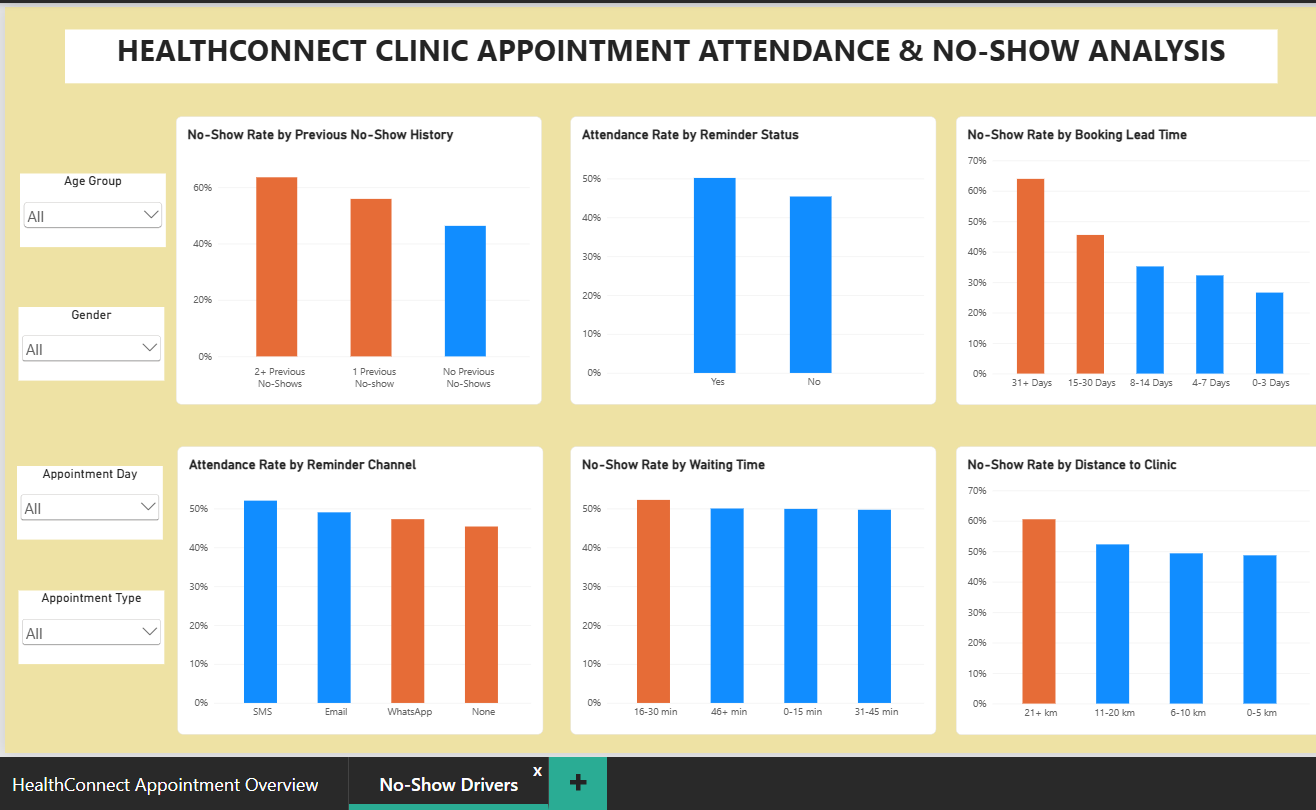

What the dashboard file says about the page in this screenshot:
{"tool":"powerbi","page":{"name":"No-Show Drivers","canvas":[1920,1080],"ordinal":1},"visuals":[{"type":"clusteredColumnChart","title":"No-Show Rate by Previous No-Show History","fields":{"Category":["HealthConnect_Appointment_Data_Raw.Previous No-Show Group"],"Y":["HealthConnect_Appointment_Data_Raw.No-Show Rate"]},"box":[248.7,158.7,530,417],"z":0},{"type":"clusteredColumnChart","title":"No-Show Rate by Booking Lead Time","fields":{"Category":["HealthConnect_Appointment_Data_Raw.Booking Lead Group"],"Y":["HealthConnect_Appointment_Data_Raw.No-Show Rate"]},"box":[1378.4,158.7,530,417.9],"z":1000},{"type":"clusteredColumnChart","title":"Attendance Rate by Reminder Status","fields":{"Category":["HealthConnect_Appointment_Data_Raw.reminder_sent"],"Y":["HealthConnect_Appointment_Data_Raw.Attendance Rate"]},"box":[819.5,158.7,530,417],"z":2000},{"type":"clusteredColumnChart","title":"Attendance Rate by Reminder Channel","fields":{"Category":["HealthConnect_Appointment_Data_Raw.reminder_channel"],"Y":["HealthConnect_Appointment_Data_Raw.Attendance Rate"]},"box":[249.8,636,530,417],"z":3000},{"type":"clusteredColumnChart","title":"No-Show Rate by Distance to Clinic","fields":{"Category":["HealthConnect_Appointment_Data_Raw.Distance Group"],"Y":["HealthConnect_Appointment_Data_Raw.No-Show Rate"]},"box":[1378.7,636,530,417.9],"z":4000},{"type":"clusteredColumnChart","title":"No-Show Rate by Waiting Time","fields":{"Category":["HealthConnect_Appointment_Data_Raw.Waiting Time Group"],"Y":["HealthConnect_Appointment_Data_Raw.No-Show Rate"]},"box":[819.9,636,530,417],"z":5000},{"type":"slicer","title":"Appointment Type","fields":{"Values":["HealthConnect_Appointment_Data_Raw.appointment_type"]},"box":[20.4,844.9,211.2,106.8],"z":6000},{"type":"slicer","title":"Gender","fields":{"Values":["HealthConnect_Appointment_Data_Raw.gender"]},"box":[20.4,433.8,211.2,106.8],"z":7000},{"type":"slicer","title":"Age Group","fields":{"Values":["HealthConnect_Appointment_Data_Raw.age_group"]},"box":[22.7,240.8,211.2,106.8],"z":8000},{"type":"slicer","title":"Appointment Day","fields":{"Values":["HealthConnect_Appointment_Data_Raw.appointment_day"]},"box":[18.2,665.5,211.2,106.8],"z":9000},{"type":"textbox","box":[87.6,33.2,1757.4,78.2],"z":9001}]}

Visuals, with their boxes on the page's 1920x1080 design canvas (x1, y1, x2, y2). These are canvas units, not pixel positions in the 1316x810 screenshot, which may show the page scaled, cropped or inside an application window:
"No-Show Rate by Previous No-Show History" clusteredColumnChart: 249/159/779/576
"No-Show Rate by Booking Lead Time" clusteredColumnChart: 1378/159/1908/577
"Attendance Rate by Reminder Status" clusteredColumnChart: 820/159/1350/576
"Attendance Rate by Reminder Channel" clusteredColumnChart: 250/636/780/1053
"No-Show Rate by Distance to Clinic" clusteredColumnChart: 1379/636/1909/1054
"No-Show Rate by Waiting Time" clusteredColumnChart: 820/636/1350/1053
"Appointment Type" slicer: 20/845/232/952
"Gender" slicer: 20/434/232/541
"Age Group" slicer: 23/241/234/348
"Appointment Day" slicer: 18/666/229/772
textbox: 88/33/1845/111
